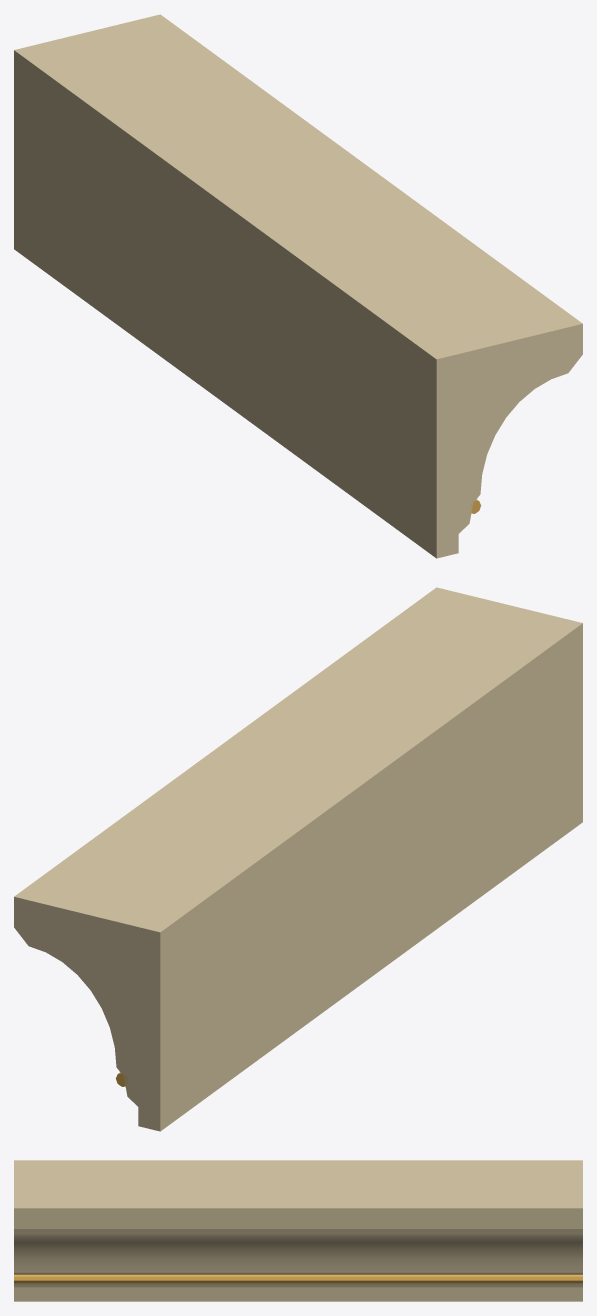
Rendered from cornice.glb.
The picture shows the model from 3 angles, top to bottom: view 1: azimuth 30°, elevation 25°; view 2: azimuth 150°, elevation 25°; view 3: azimuth 270°, elevation 25°; orthographic projection. The views are drawn at different scales.
Visible parts, largest first — view 1: gesims; view 2: gesims; view 3: gesims, perlstab.
Boxes of the visible parts, x1,y1,x2,y2 form: gesims: [14, 14, 582, 558]; gesims: [14, 587, 582, 1131]; gesims: [14, 1160, 582, 1301]; perlstab: [14, 1274, 582, 1283].
Bounding box in the file's own units: 0.2 × 0.26 × 1.
